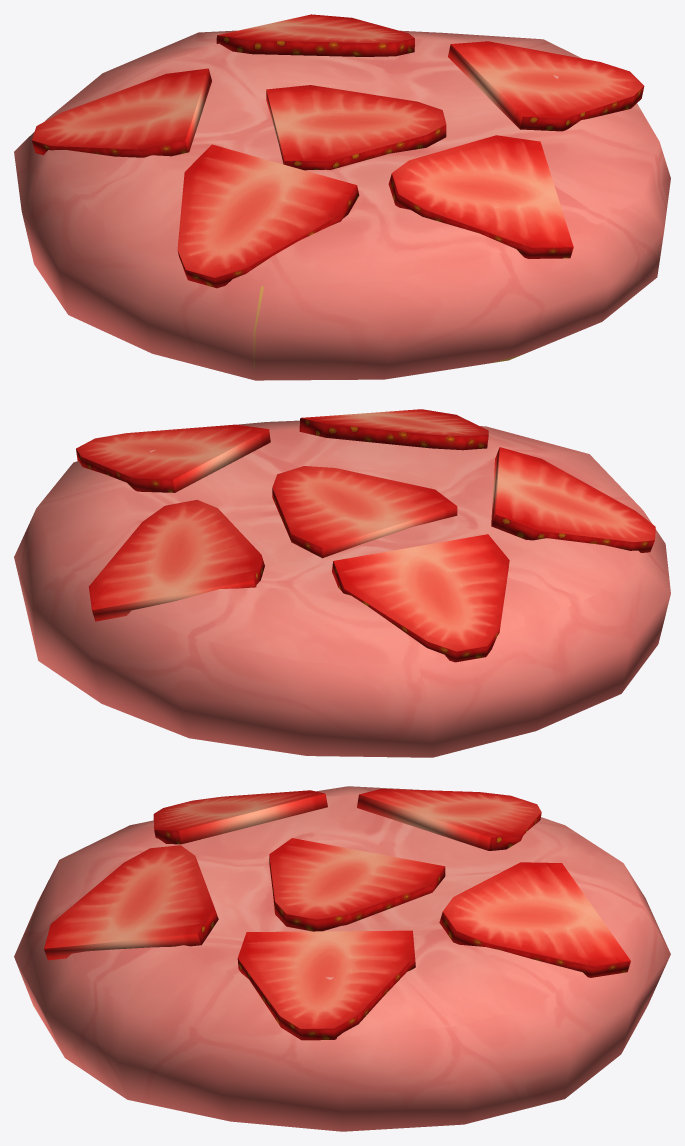
File: cookieStrawberry.gltf
The picture shows the model from 3 angles, top to bottom: view 1: azimuth 30°, elevation 25°; view 2: azimuth 150°, elevation 25°; view 3: azimuth 270°, elevation 25°; orthographic projection.
Visible parts, largest first — view 1: Strawberry.001; view 2: Strawberry.001; view 3: Strawberry.001.
Boxes of the visible parts, bbox=[...] form: Strawberry.001: bbox=[14, 14, 670, 380]; Strawberry.001: bbox=[14, 409, 670, 757]; Strawberry.001: bbox=[14, 786, 670, 1131].
Bounding box in the file's own units: 1.42 × 0.3367 × 1.42.
